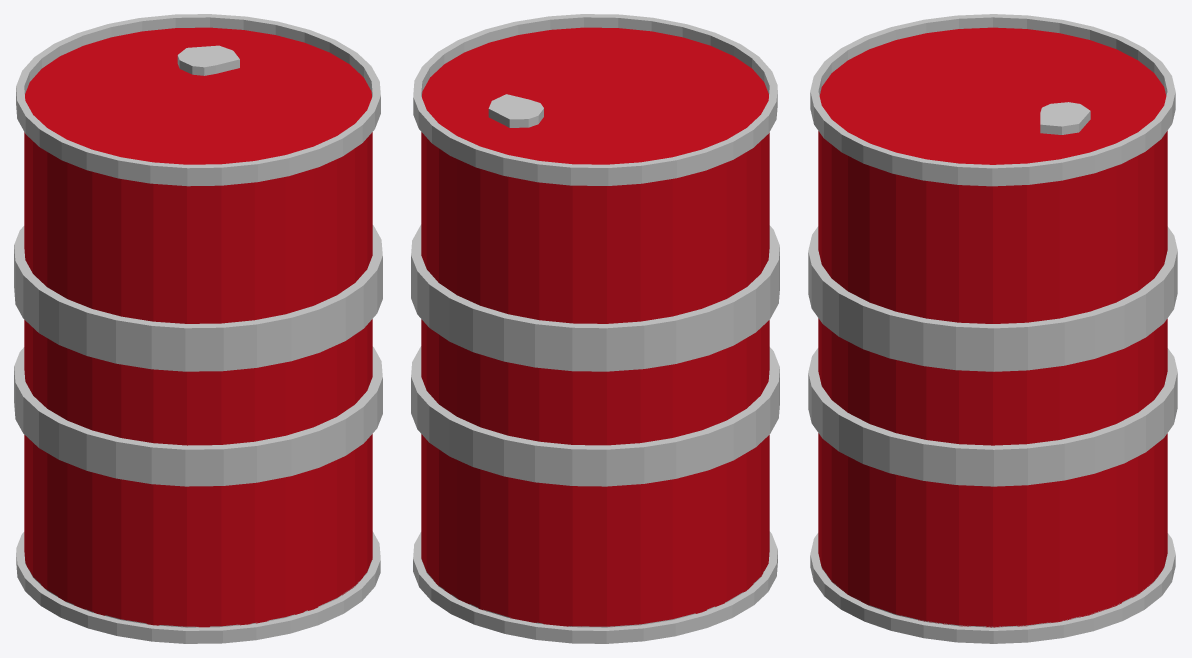
File: ドラム缶 赤.fbx
The picture shows the model from 3 angles, left to right: view 1: azimuth 30°, elevation 25°; view 2: azimuth 150°, elevation 25°; view 3: azimuth 270°, elevation 25°; orthographic projection.
Parts seen in each view (by area): view 1: Cylinder; view 2: Cylinder; view 3: Cylinder.
Boxes of the visible parts, x1=… form: Cylinder: x1=14, y1=14, x2=382, y2=643; Cylinder: x1=411, y1=14, x2=779, y2=643; Cylinder: x1=808, y1=14, x2=1177, y2=643.
Bounding box in the file's own units: 212 × 301 × 212.
